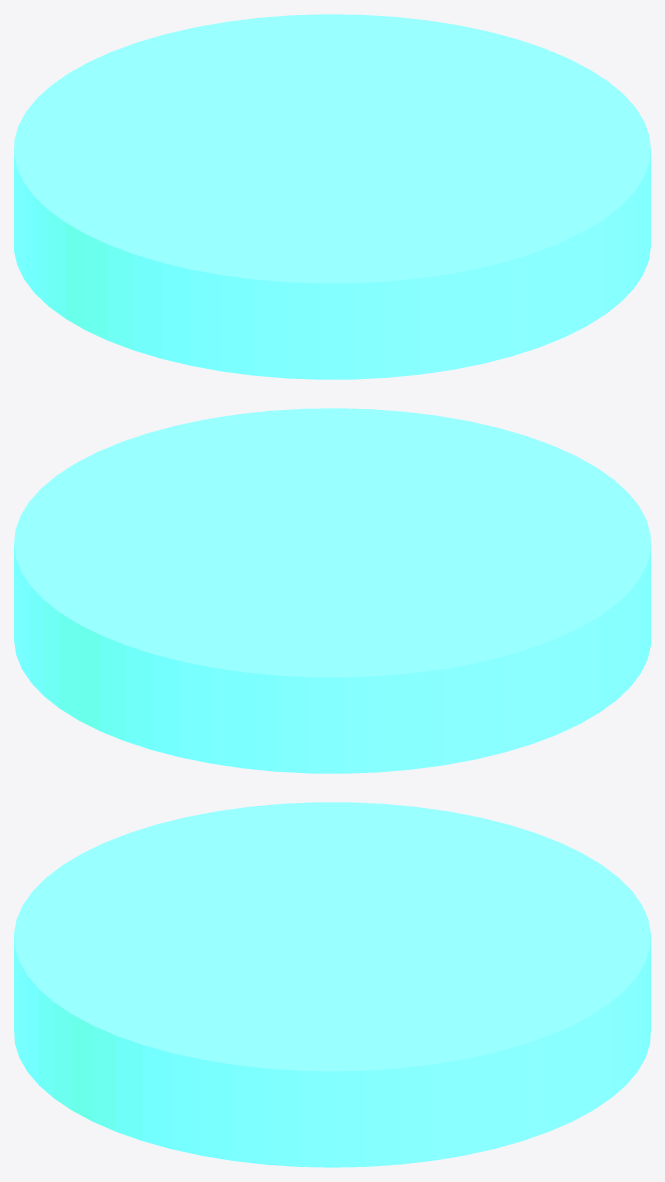
File: cylinder_cyan_v2.dae
The picture shows the model from 3 angles, top to bottom: view 1: azimuth 30°, elevation 25°; view 2: azimuth 150°, elevation 25°; view 3: azimuth 270°, elevation 25°; orthographic projection.
Visible parts, largest first — view 1: cylinder; view 2: cylinder; view 3: cylinder.
Boxes of the visible parts, box(x1,y1,x2,y2) form: cylinder: box(14, 14, 650, 379); cylinder: box(14, 408, 650, 773); cylinder: box(14, 802, 650, 1167).
Size of the model in its own units: 0.03 by 0.03 by 0.005.
